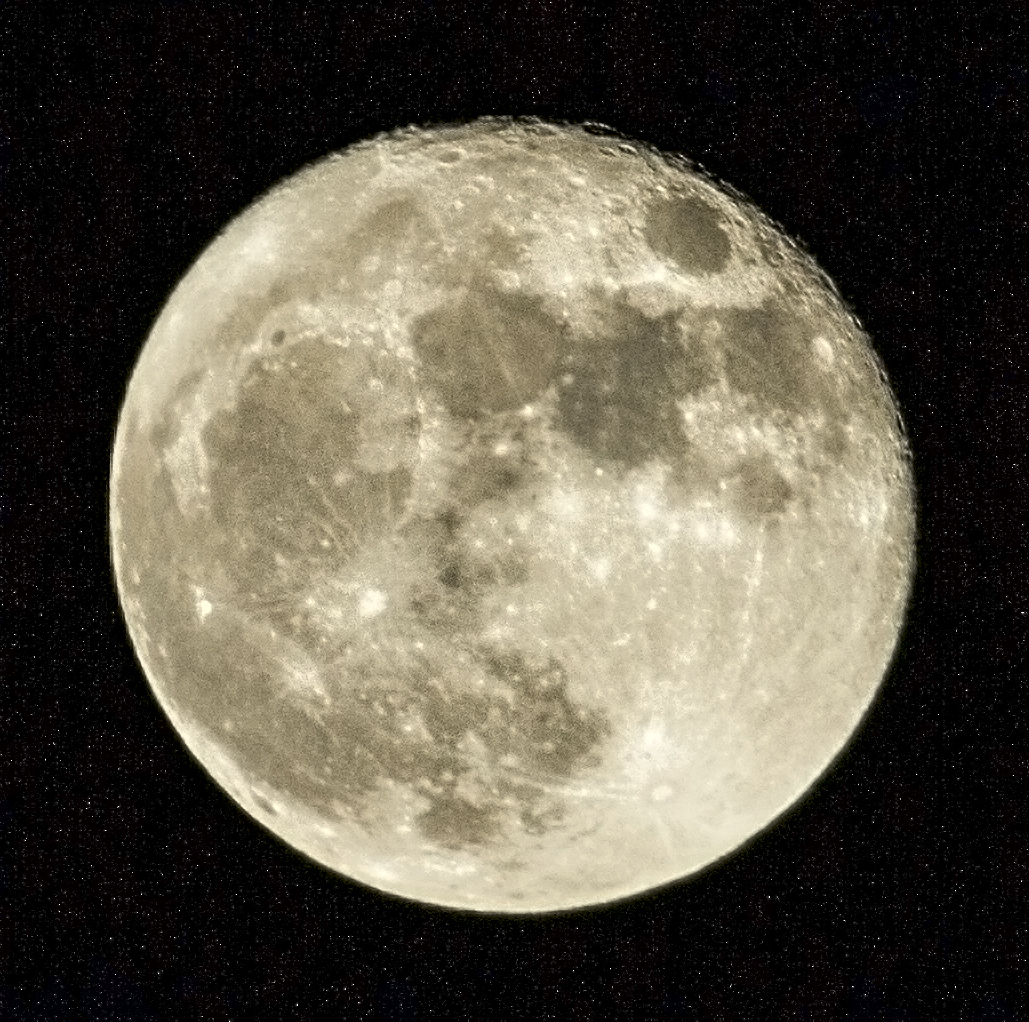crater: (606, 182, 744, 314), (605, 764, 701, 826), (269, 650, 337, 711), (344, 574, 403, 629), (242, 325, 310, 361), (179, 584, 226, 623), (803, 329, 839, 376), (433, 143, 482, 176), (480, 432, 522, 470), (353, 250, 389, 276)
